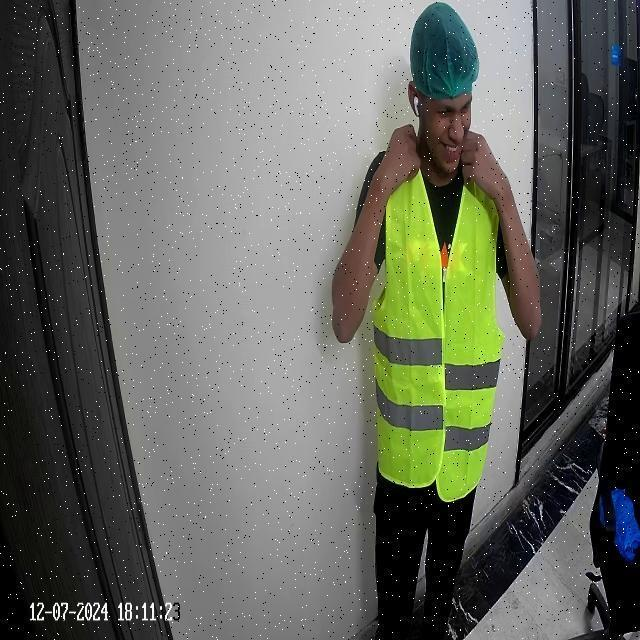gloves: (410, 6, 472, 101)
no_apron: (368, 120, 424, 190), (473, 138, 529, 208)
no_hairnet: (415, 120, 468, 166)
